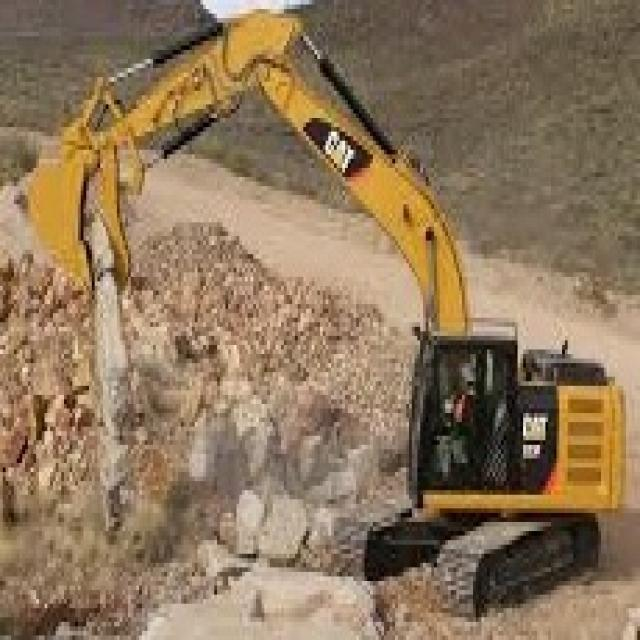excavator: (29, 15, 611, 557)
